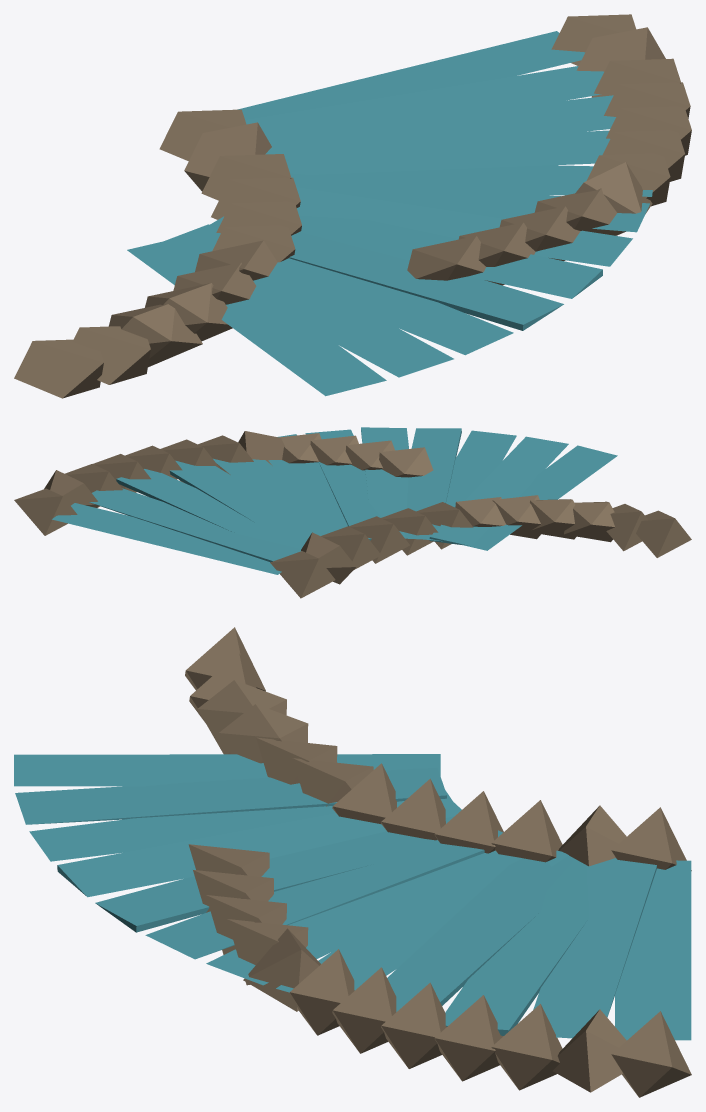
File: landscape-river-curve.lod2.glb
The picture shows the model from 3 angles, top to bottom: view 1: azimuth 30°, elevation 25°; view 2: azimuth 150°, elevation 25°; view 3: azimuth 270°, elevation 25°; orthographic projection. The views are drawn at different scales.
Parts seen in each view (by area): view 1: landscape-river-curve__body; view 2: landscape-river-curve__body; view 3: landscape-river-curve__body.
Boxes of the visible parts, bbox=[...] form: landscape-river-curve__body: bbox=[14, 14, 691, 398]; landscape-river-curve__body: bbox=[14, 427, 691, 598]; landscape-river-curve__body: bbox=[14, 627, 691, 1097].
Size of the model in its own units: 7.2 by 0.5253 by 4.78.
